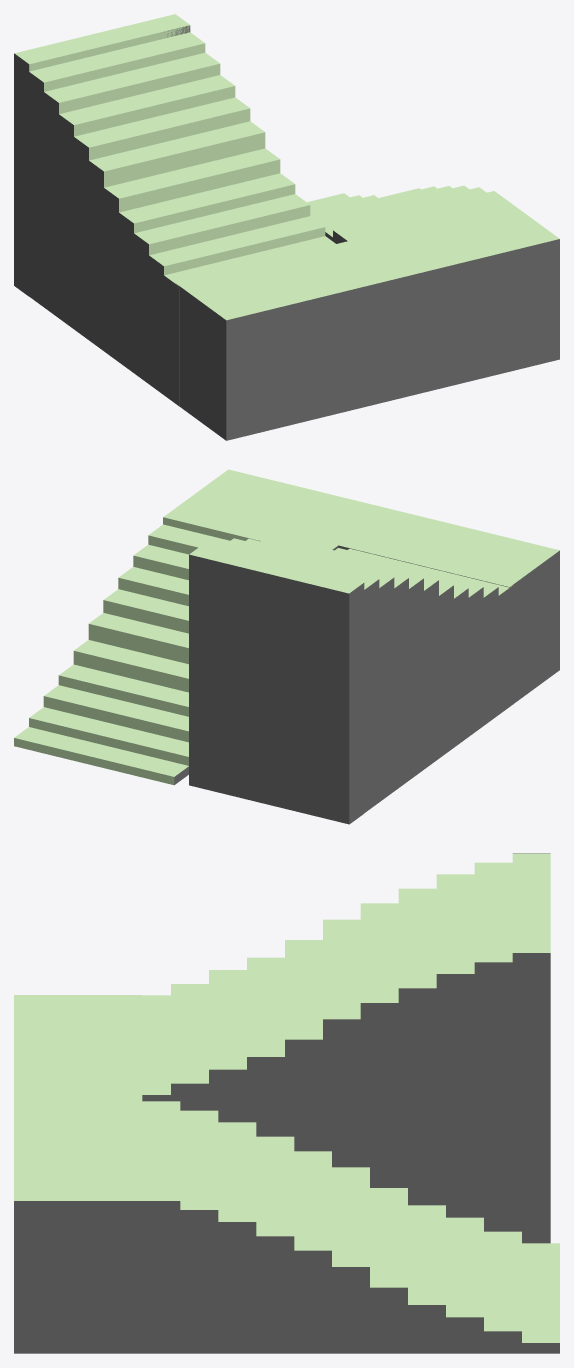
File: Staircase.fbx
The picture shows the model from 3 angles, top to bottom: view 1: azimuth 30°, elevation 25°; view 2: azimuth 150°, elevation 25°; view 3: azimuth 270°, elevation 25°; orthographic projection. The views are drawn at different scales.
Parts seen in each view (by area): view 1: StairCase; view 2: StairCase; view 3: StairCase.
Boxes of the visible parts, bbox=[...] form: StairCase: bbox=[14, 14, 559, 440]; StairCase: bbox=[14, 469, 559, 824]; StairCase: bbox=[14, 853, 559, 1353].
Size of the model in its own units: 1355 by 901 by 1516.
